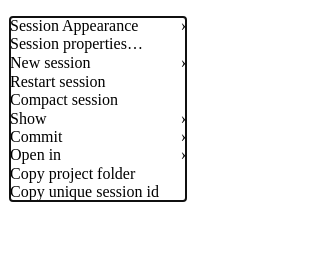
it: app-client-ui/renderer/views/sessionsTree/sessionsTreeContextMenu › marks the colour the session already has
The image size is (320, 268).
Hover over the element showing "Session Appearance ›" at (98, 26), box [10,17,186,35]
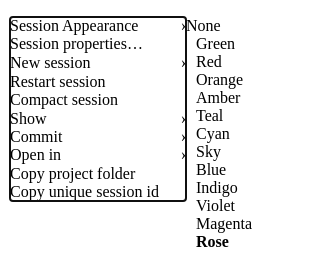
Result: the number of menu items with class "is-current" is 1 at [186,233,252,251]
